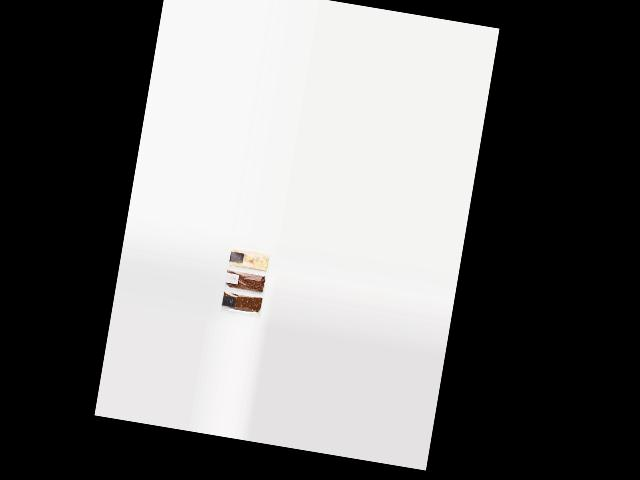chocolate: (221, 289, 266, 320)
